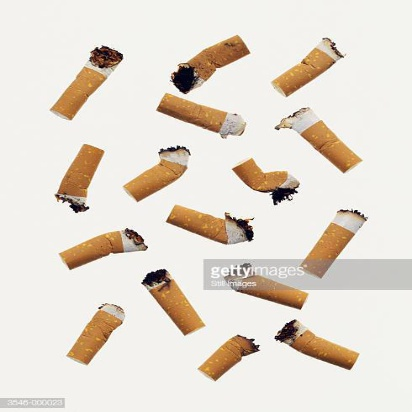cigarette: (271, 103, 370, 177), (41, 43, 132, 122), (162, 32, 252, 96), (270, 315, 365, 374), (300, 204, 370, 281), (65, 296, 129, 377), (272, 30, 346, 100), (138, 265, 206, 341), (156, 92, 250, 142), (161, 203, 260, 250), (228, 158, 310, 212), (52, 226, 154, 267), (123, 143, 191, 204), (53, 143, 108, 217), (198, 329, 262, 387)
